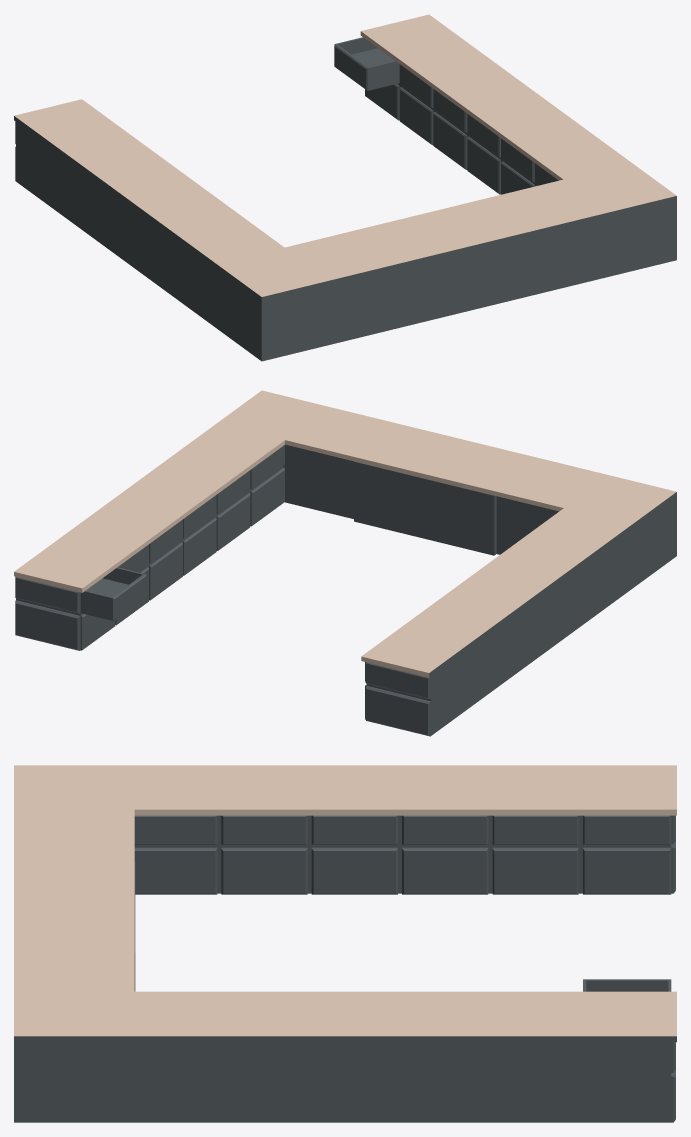
File: STM_KitchenBench.fbx
3 renders of one model, top to bottom at view 1: azimuth 30°, elevation 25°; view 2: azimuth 150°, elevation 25°; view 3: azimuth 270°, elevation 25°, orthographic. The views are drawn at different scales.
Parts seen in each view (by area): view 1: pCube62; view 2: pCube62; view 3: pCube62.
Boxes of the visible parts, bbox=[...] form: pCube62: bbox=[14, 14, 676, 361]; pCube62: bbox=[14, 390, 676, 736]; pCube62: bbox=[14, 765, 676, 1122].
Size of the model in its own units: 5.71 by 0.8457 by 5.9.
